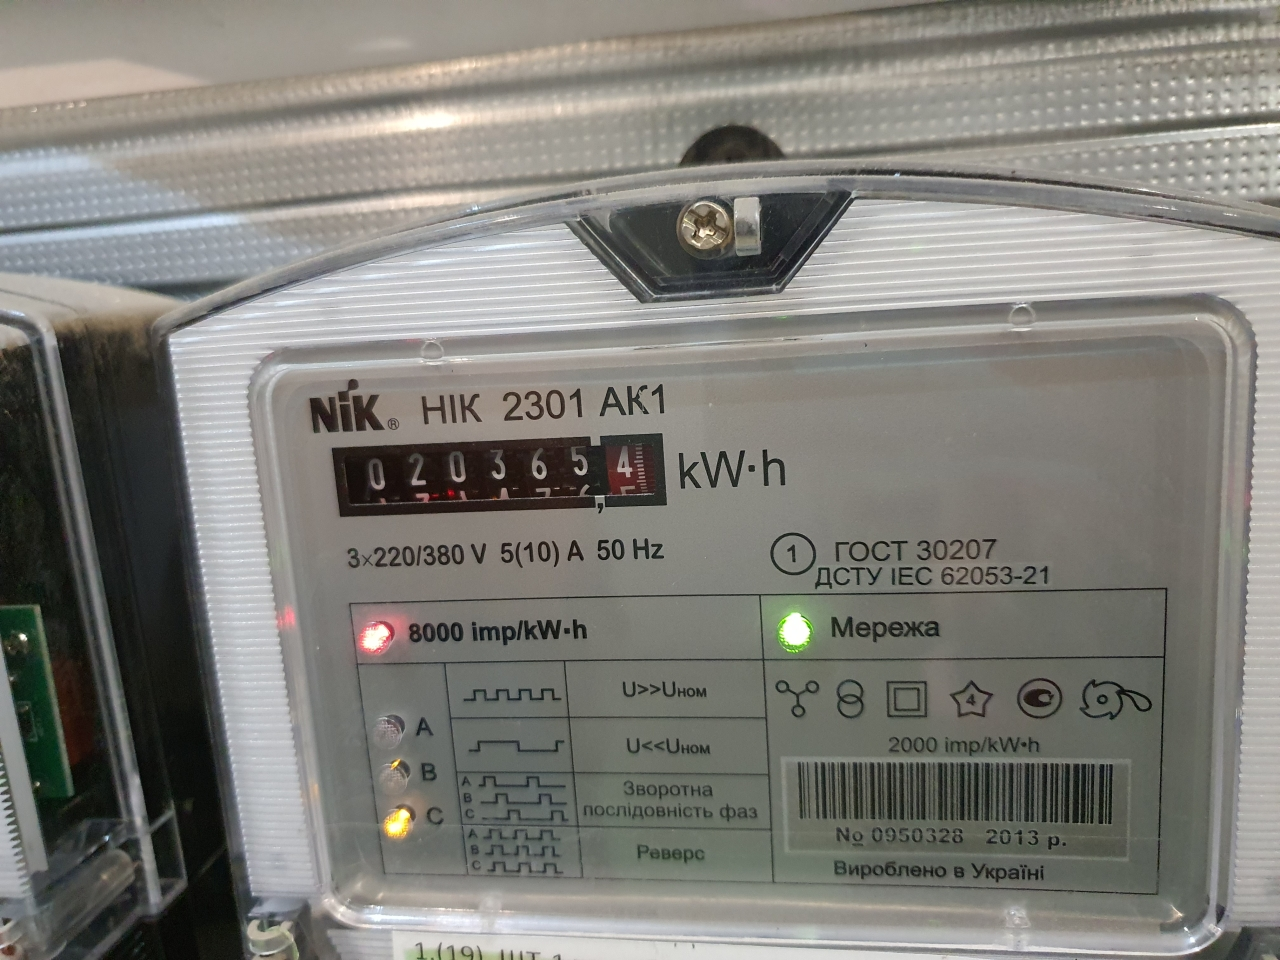0: (366, 456, 387, 490), (447, 448, 467, 484)
2: (406, 451, 428, 487)
3: (489, 446, 507, 480)
4: (615, 444, 634, 478)
5: (569, 444, 589, 476)
6: (529, 445, 548, 481)
screen: (316, 423, 685, 526)
